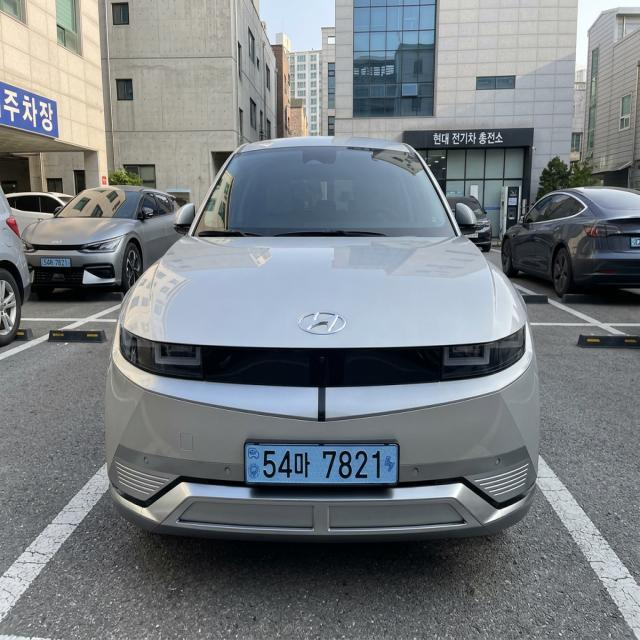car: (208, 428, 432, 502)
carev: (243, 438, 263, 490), (382, 440, 403, 488)
